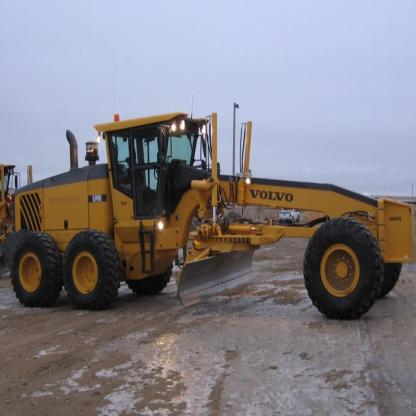bull_dozer/loader/grader: (8, 98, 410, 323)
